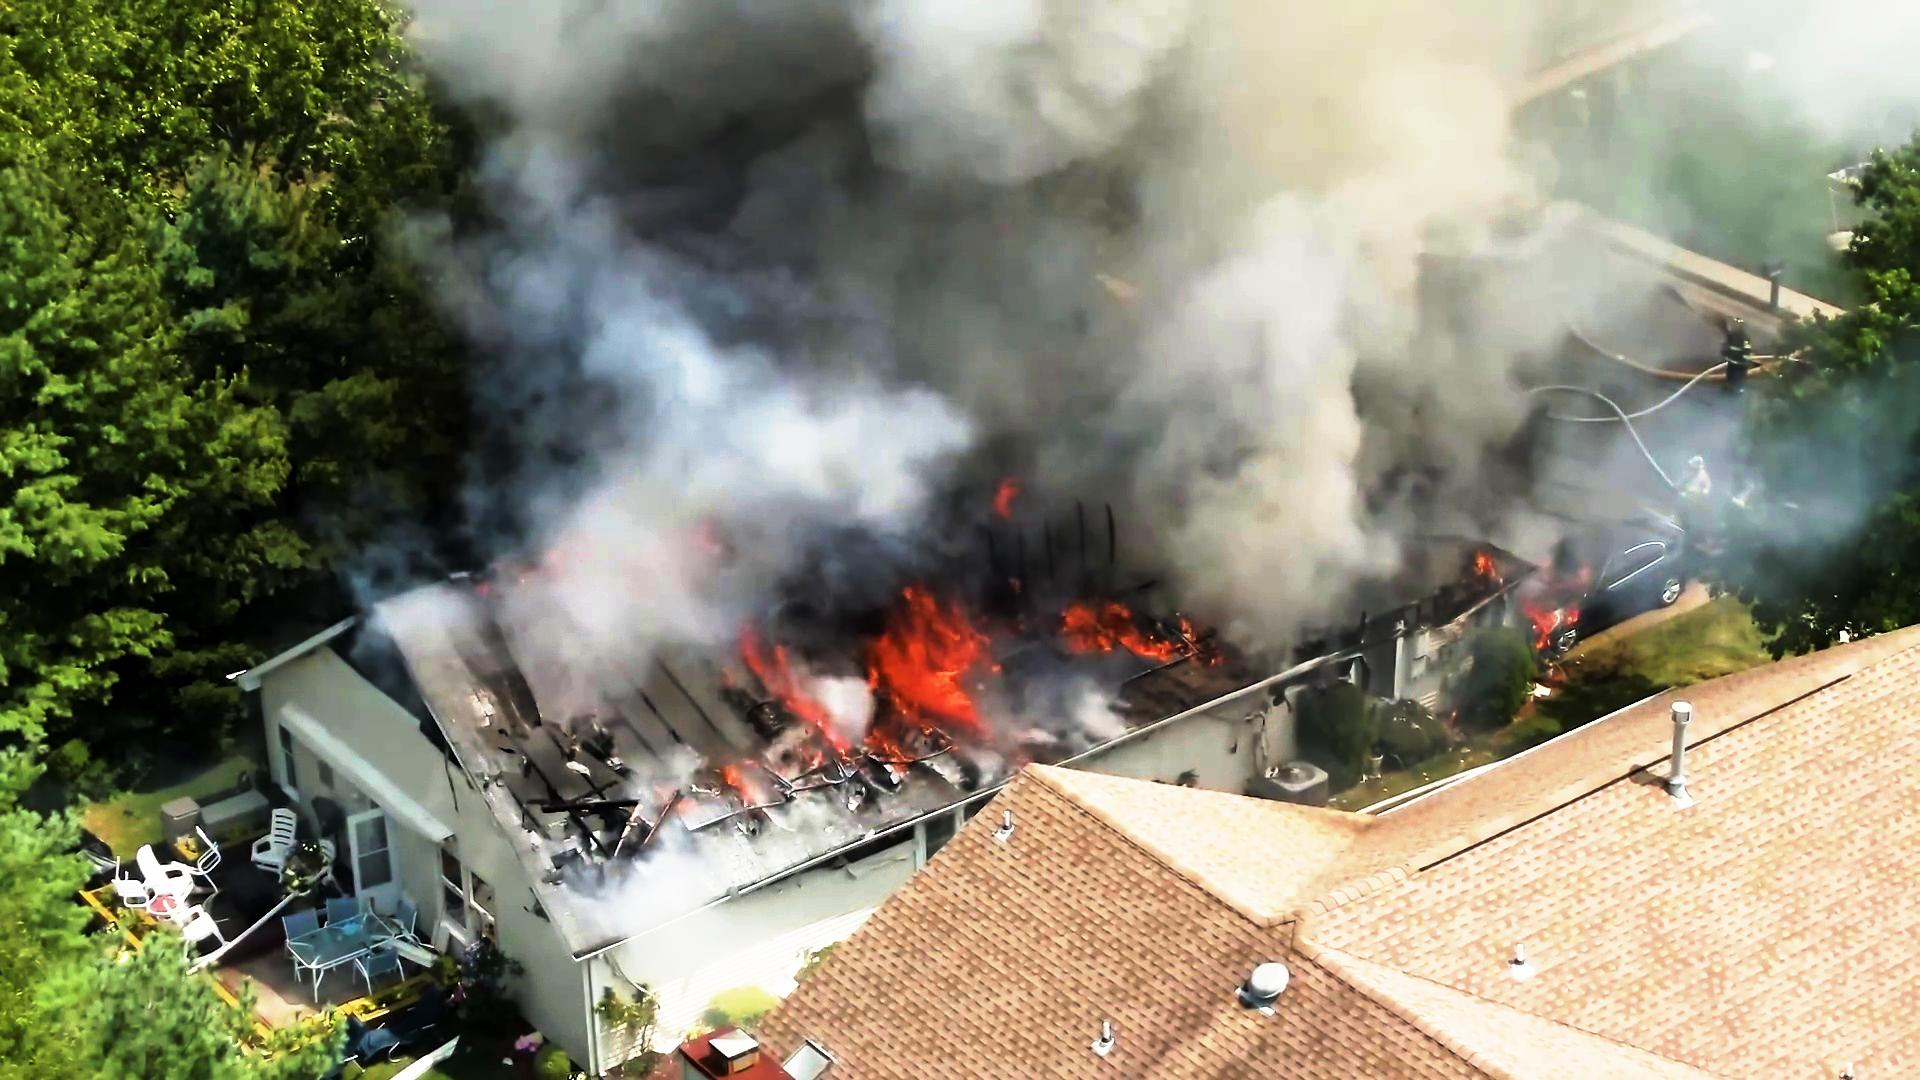fire: (876, 571, 977, 735)
smoke: (500, 0, 1033, 533), (1077, 0, 1370, 605)
